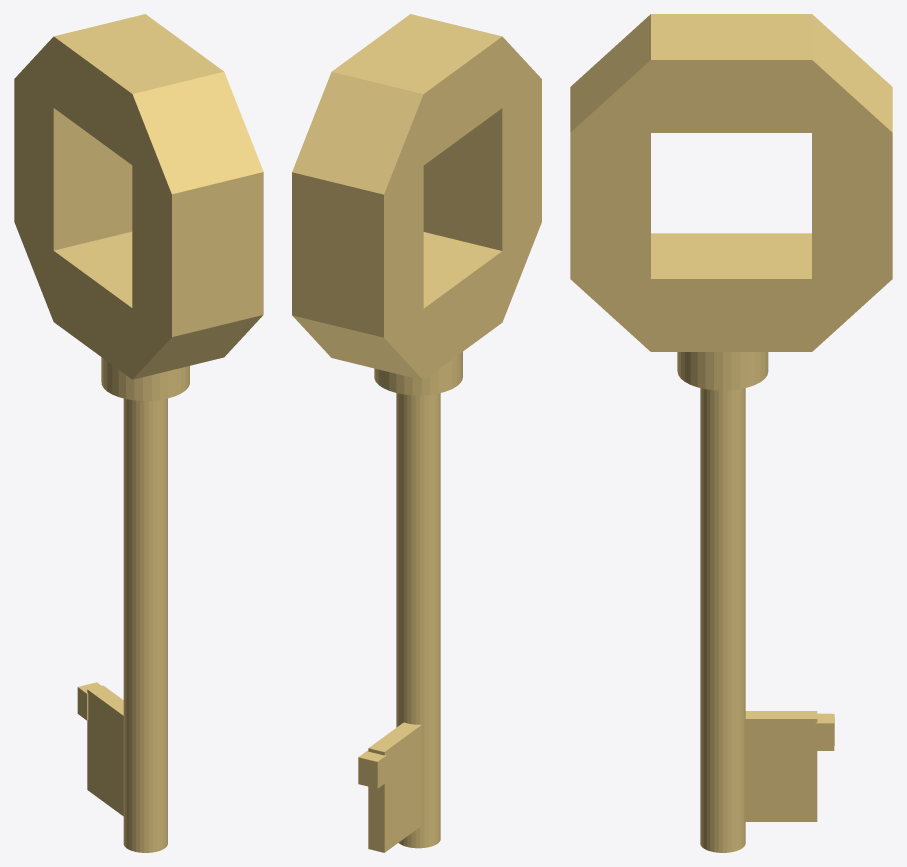
File: Key2.fbx
3 renders of one model, left to right at view 1: azimuth 30°, elevation 25°; view 2: azimuth 150°, elevation 25°; view 3: azimuth 270°, elevation 25°, orthographic. The views are drawn at different scales.
Visible parts, largest first — view 1: 큐브, Key1_Shaft, Key1_Bit, Key1_Collar; view 2: 큐브, Key1_Shaft, Key1_Bit, Key1_Collar, Key1_Notch; view 3: 큐브, Key1_Shaft, Key1_Bit, Key1_Collar, Key1_Notch.
Boxes of the visible parts, bbox=[...] form: 큐브: bbox=[14, 14, 263, 379]; Key1_Shaft: bbox=[123, 398, 167, 852]; Key1_Bit: bbox=[87, 685, 123, 816]; Key1_Collar: bbox=[101, 357, 189, 400]; 큐브: bbox=[292, 14, 541, 380]; Key1_Shaft: bbox=[396, 393, 440, 848]; Key1_Bit: bbox=[368, 722, 421, 852]; Key1_Collar: bbox=[374, 352, 462, 395]; Key1_Notch: bbox=[358, 750, 386, 788]; 큐브: bbox=[570, 14, 892, 351]; Key1_Shaft: bbox=[700, 388, 745, 852]; Key1_Bit: bbox=[745, 711, 817, 821]; Key1_Collar: bbox=[677, 352, 768, 390]; Key1_Notch: bbox=[815, 713, 834, 750].
Size of the model in its own units: 28.64 by 235 by 85.15.
